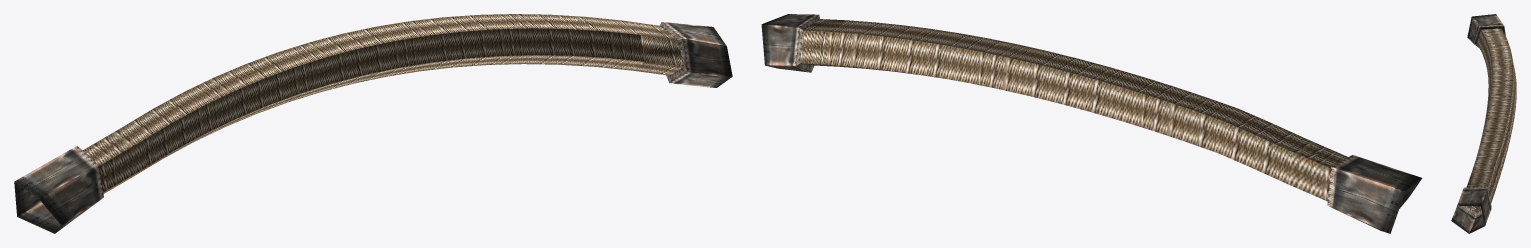
Rendered from bigsuolianpath.FBX.
3 views of the same model, side by side, from view 1: azimuth 30°, elevation 25°; view 2: azimuth 150°, elevation 25°; view 3: azimuth 270°, elevation 25° (orthographic). The views are drawn at different scales.
Parts seen in each view (by area): view 1: Box175; view 2: Box175; view 3: Box175.
Boxes of the visible parts, x1=… form: Box175: x1=14, y1=14, x2=732, y2=233; Box175: x1=761, y1=14, x2=1422, y2=233; Box175: x1=1451, y1=14, x2=1516, y2=233.
Size of the model in its own units: 680 by 102 by 98.93.
